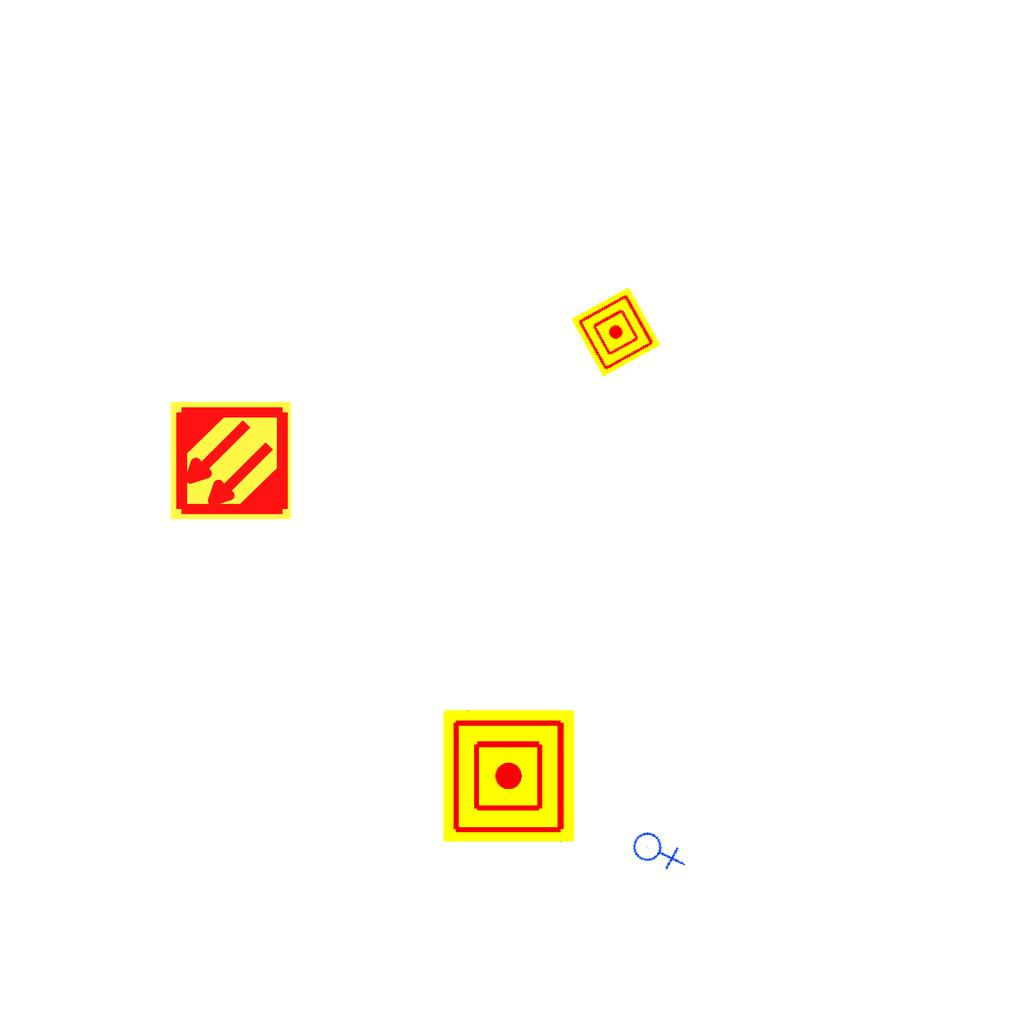ASR_Ansaugrauchmelder: (168, 398, 293, 523)
Elektroanschluss_allgemein_230V_Geraeteanschlussdose_230V: (627, 818, 688, 881)
NAM-Nichtautomatischer_Melder: (443, 710, 575, 842), (571, 287, 661, 377)
